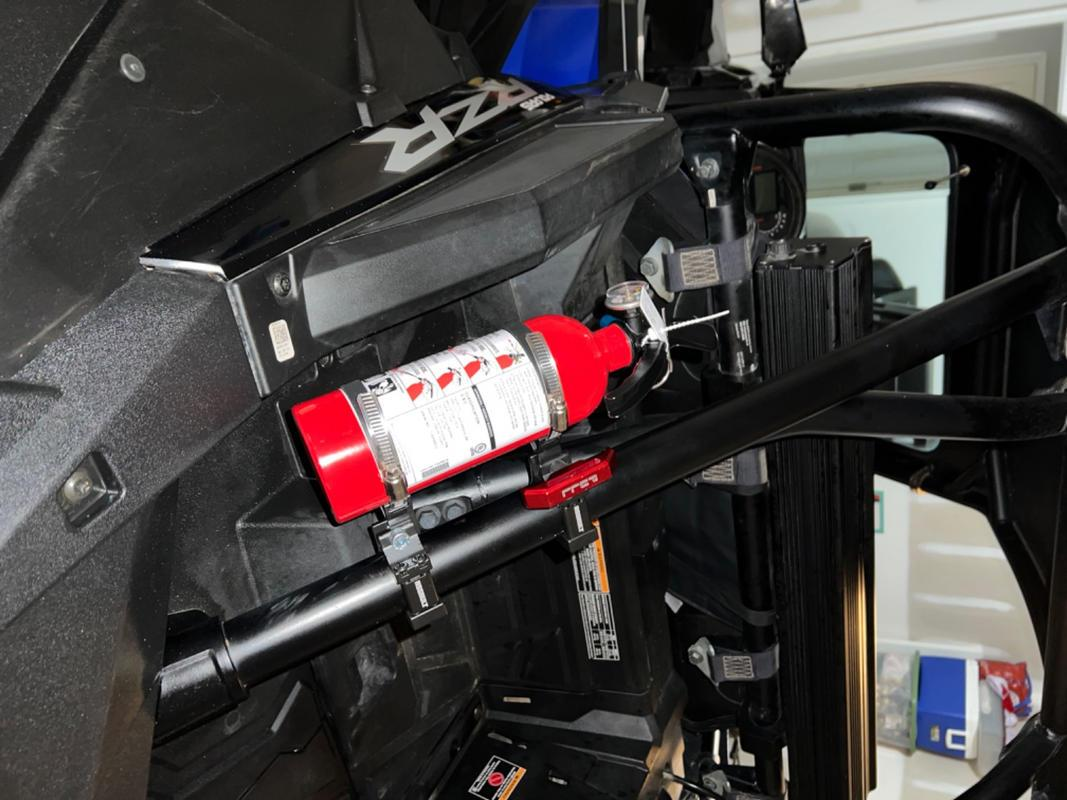Fire Extinguisher: (274, 304, 654, 526)
